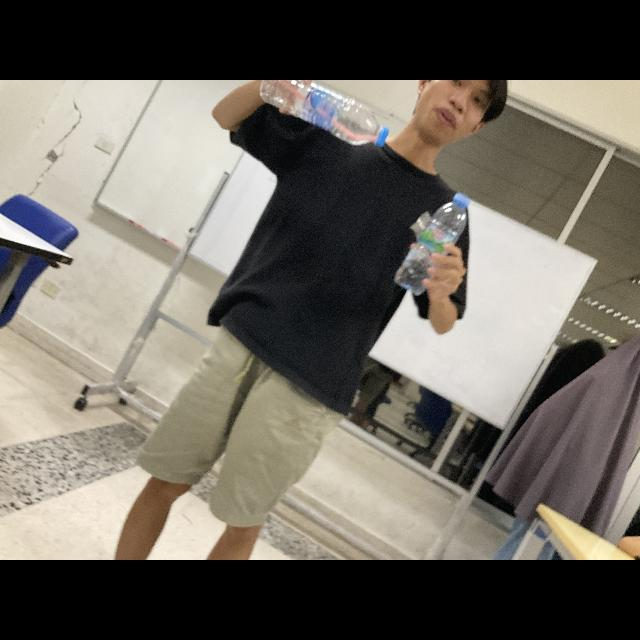plastic_bottle: (258, 80, 392, 152), (393, 190, 473, 296)
